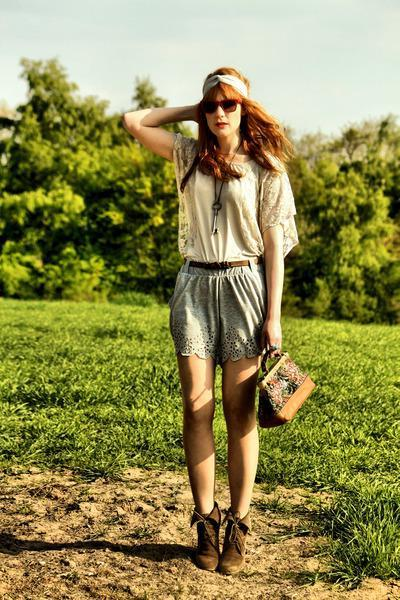short sleeve shirt: (171, 136, 316, 266), (165, 256, 271, 362)
